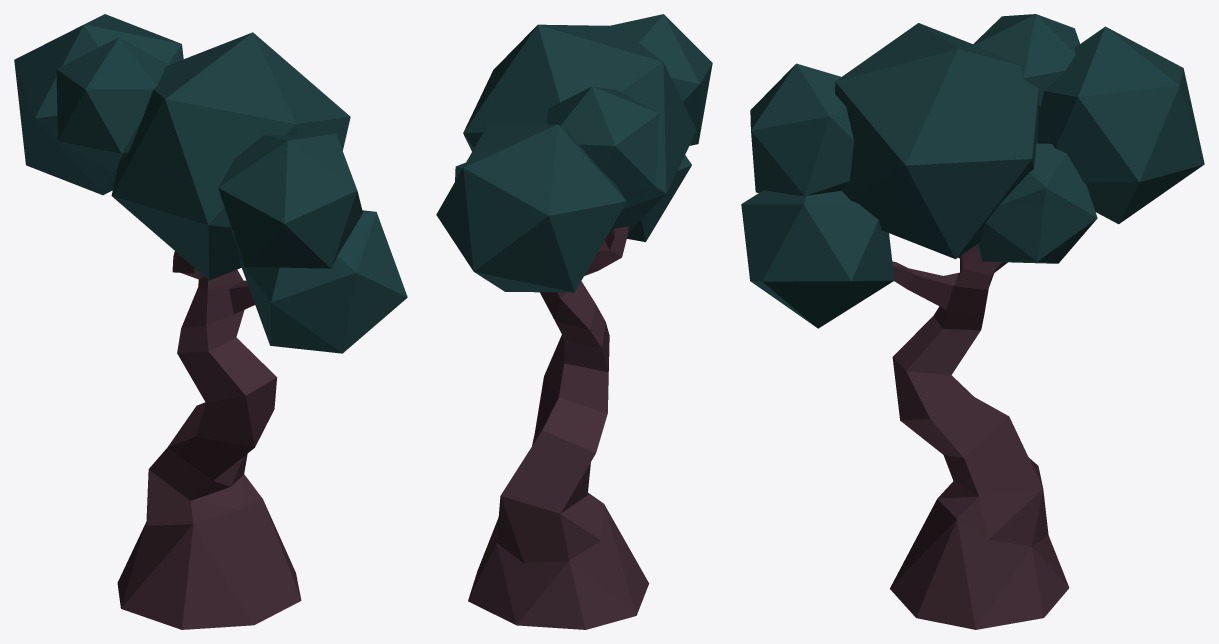
The model's file is TreePackage.fbx_Tree_013.fbx.
3 views of the same model, side by side, from view 1: azimuth 30°, elevation 25°; view 2: azimuth 150°, elevation 25°; view 3: azimuth 270°, elevation 25° (orthographic).
Parts seen in each view (by area): view 1: Icosphere.003, Plane.008; view 2: Icosphere.003, Plane.008; view 3: Icosphere.003, Plane.008.
Part boxes in pixels (box(x1,y1,x2,y2)): Icosphere.003: box(14, 14, 407, 353); Plane.008: box(117, 251, 301, 629); Icosphere.003: box(436, 14, 712, 292); Plane.008: box(468, 226, 649, 629); Icosphere.003: box(741, 14, 1204, 328); Plane.008: box(890, 245, 1069, 629).
Bounding box in the file's own units: 346 × 811 × 613.
